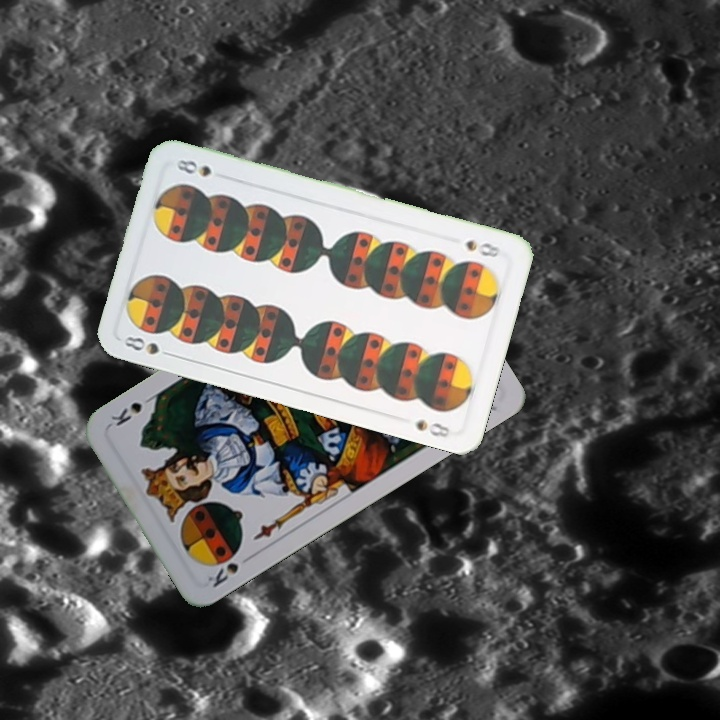S8: (120, 332, 178, 360), (461, 235, 505, 260)
SK: (203, 550, 256, 591)
